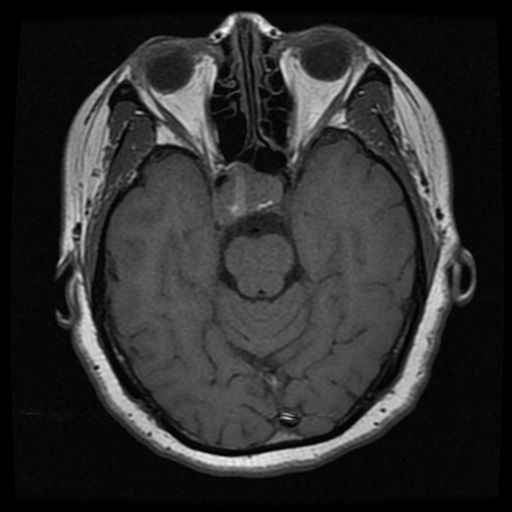pituitary: (213, 163, 283, 226)
